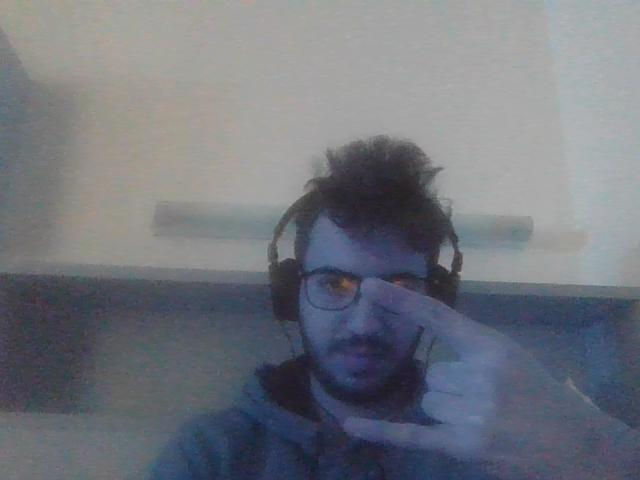iloveyou: (352, 275, 638, 480)
